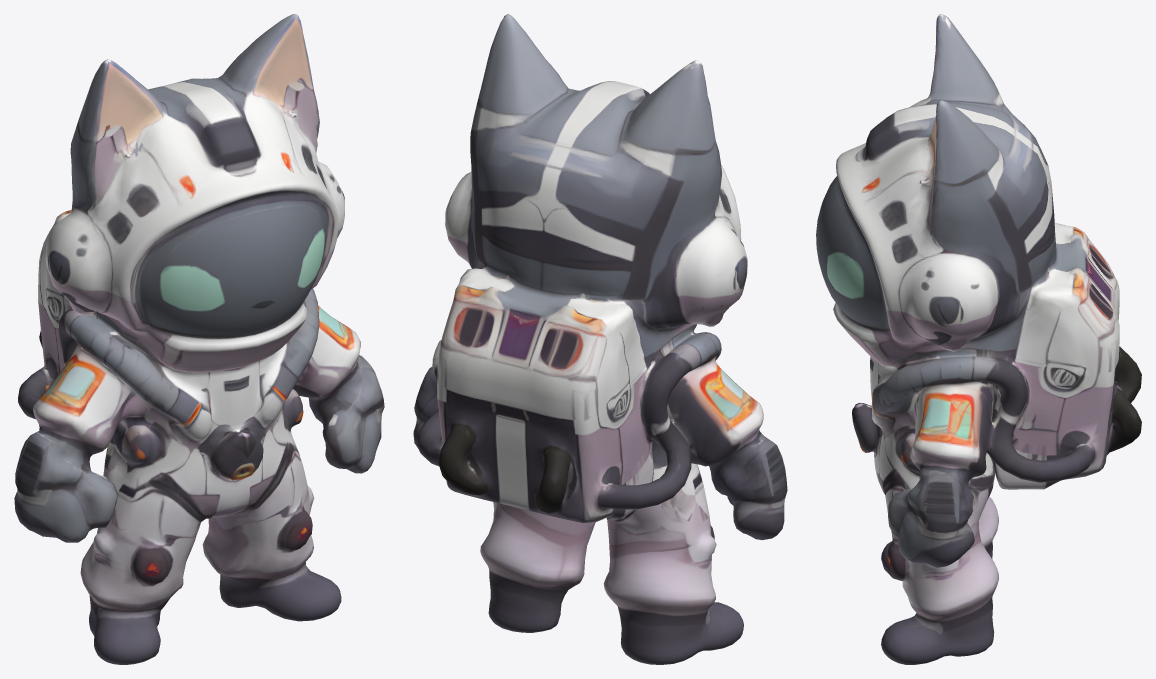
File: anime_cat_space_explorer.glb
3 renders of one model, left to right at view 1: azimuth 30°, elevation 25°; view 2: azimuth 150°, elevation 25°; view 3: azimuth 270°, elevation 25°, orthographic. The views are drawn at different scales.
Visible parts, largest first — view 1: Object_2; view 2: Object_2; view 3: Object_2.
Boxes of the visible parts, <box> form: Object_2: <box>14,14,384,664</box>; Object_2: <box>413,14,787,664</box>; Object_2: <box>816,14,1141,664</box>.
Bounding box in the file's own units: 1.22 × 1.89 × 1.
Materials: 1 (1 with a texture image).
